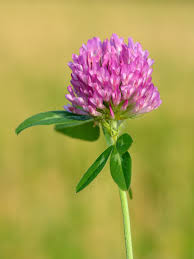clover: (49, 20, 172, 211)
